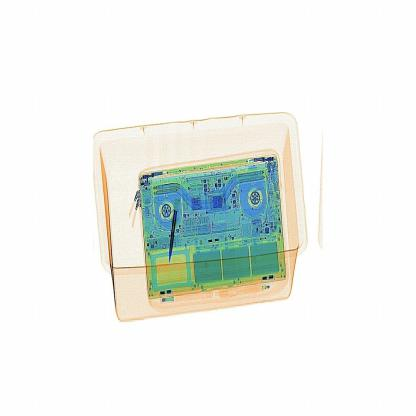gun: (160, 193, 187, 264)
